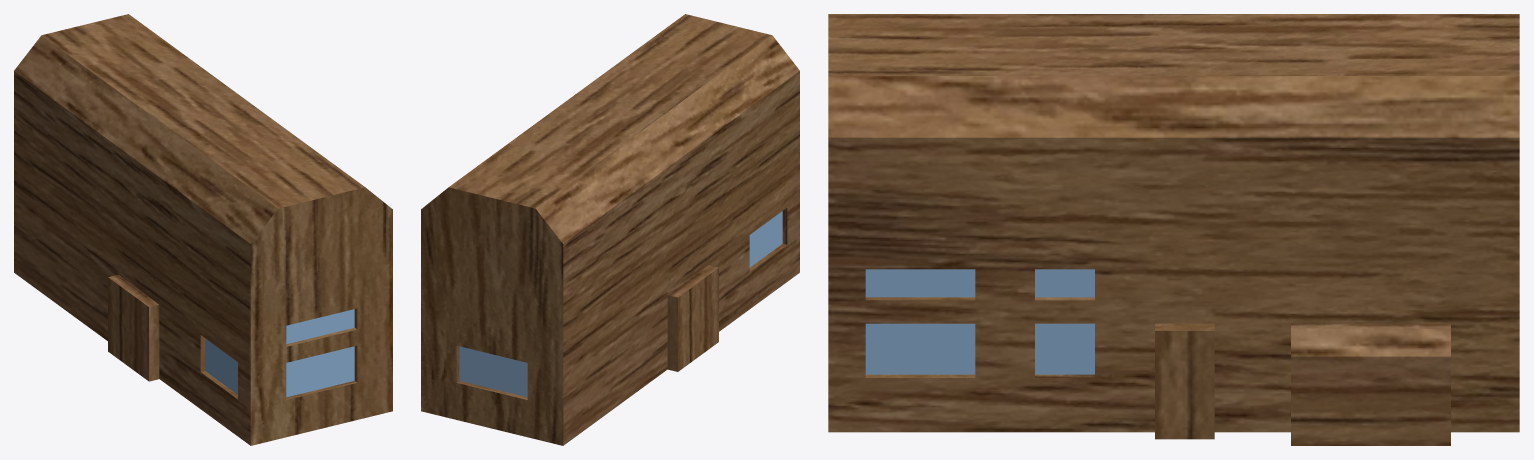
File: farm-house.glb
The picture shows the model from 3 angles, left to right: view 1: azimuth 30°, elevation 25°; view 2: azimuth 150°, elevation 25°; view 3: azimuth 270°, elevation 25°; orthographic projection. The views are drawn at different scales.
Parts seen in each view (by area): view 1: farm build, glasss; view 2: farm build, glasss; view 3: farm build, glasss.
Part boxes in pixels (<box>): farm build: <box>14,14,392,445</box>; glasss: <box>205,309,354,397</box>; farm build: <box>421,14,799,445</box>; glasss: <box>459,211,782,396</box>; farm build: <box>828,14,1519,445</box>; glasss: <box>865,269,1094,374</box>.
Bounding box in the file's own units: 6.04 × 7.75 × 14.42.
2 materials, 1 textured.
